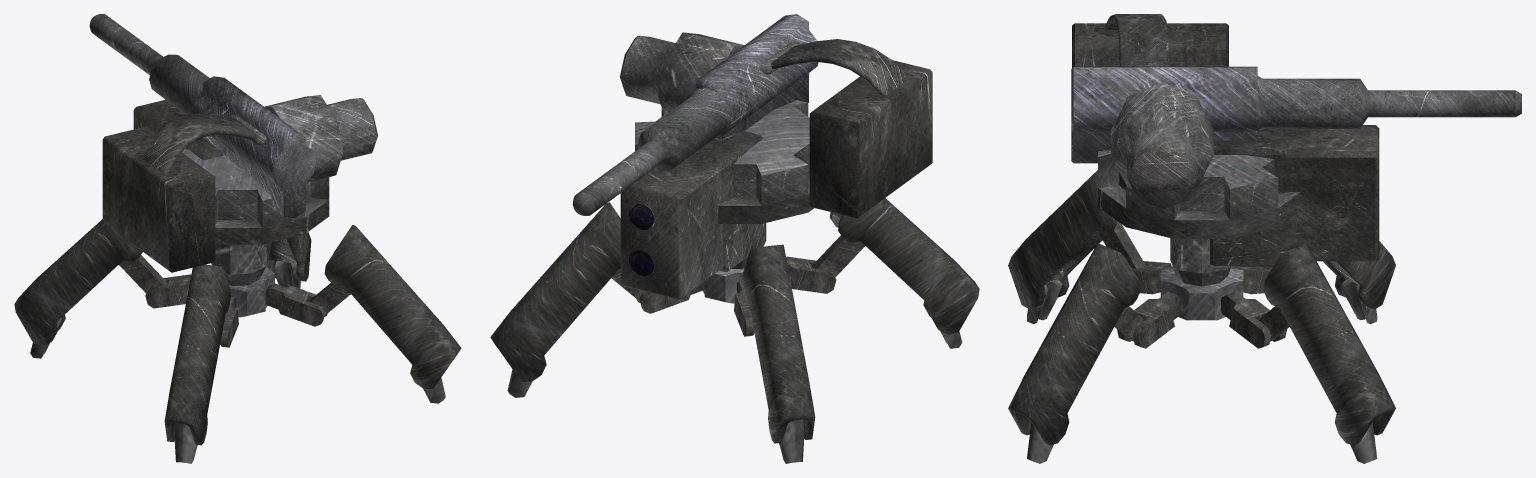
File: mechturret.dae
The picture shows the model from 3 angles, left to right: view 1: azimuth 30°, elevation 25°; view 2: azimuth 150°, elevation 25°; view 3: azimuth 270°, elevation 25°; orthographic projection. The views are drawn at different scales.
Visible parts, largest first — view 1: mechturret; view 2: mechturret; view 3: mechturret.
Part boxes in pixels (x1,y1,x2,y2): mechturret: (14, 14, 461, 463); mechturret: (490, 14, 979, 463); mechturret: (1008, 14, 1521, 463).
Bounding box in the file's own units: 6.29 × 8.33 × 5.9.
Materials: 1 (1 with a texture image).
